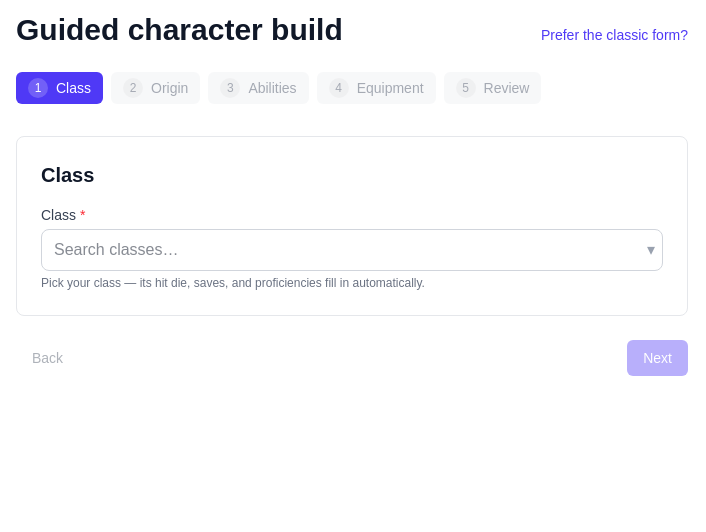
GuidedCharacterPage — wizard shell › preserves draft state when navigating back and forth
The width and height of the screenshot is (706, 532).
Type "Rogue" into the dropdown labelled "Class *" at [352, 250], box [41,229,663,271]
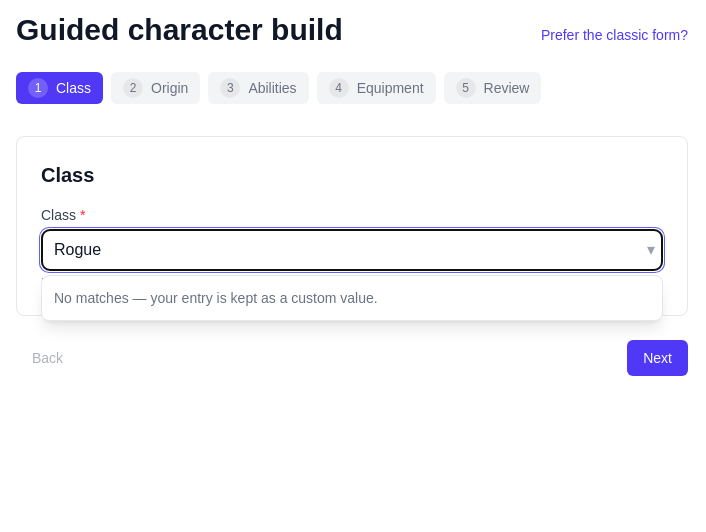
Check: the button "Next" is enabled
Click the button "Next" at [658, 358], box [627,340,688,376]
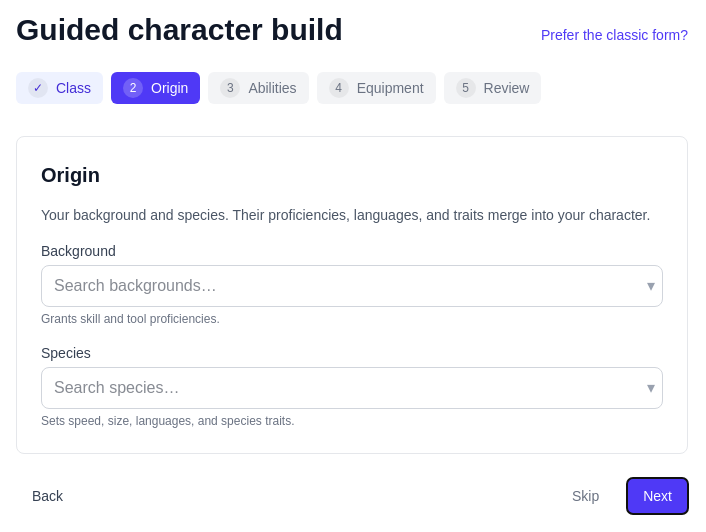
Check: the heading "Origin" is shown, box [41,164,100,186]
Click the button "Back" at [48, 496], box [16,478,79,514]
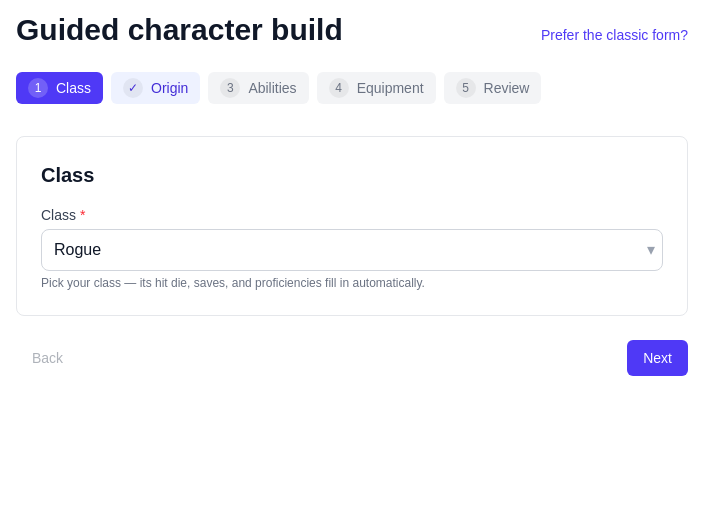
Check: the dropdown labelled "Class *" holds "Rogue", box [41,229,663,271]
